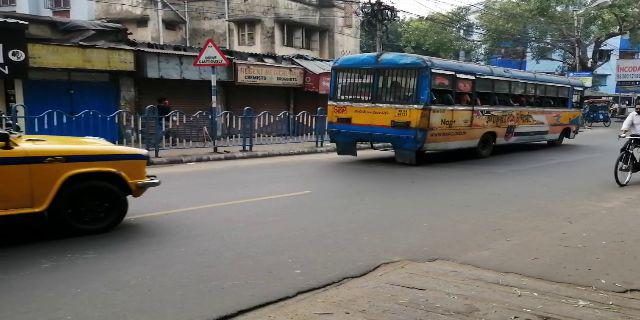Bus: (329, 53, 587, 153)
Car: (1, 108, 157, 233)
